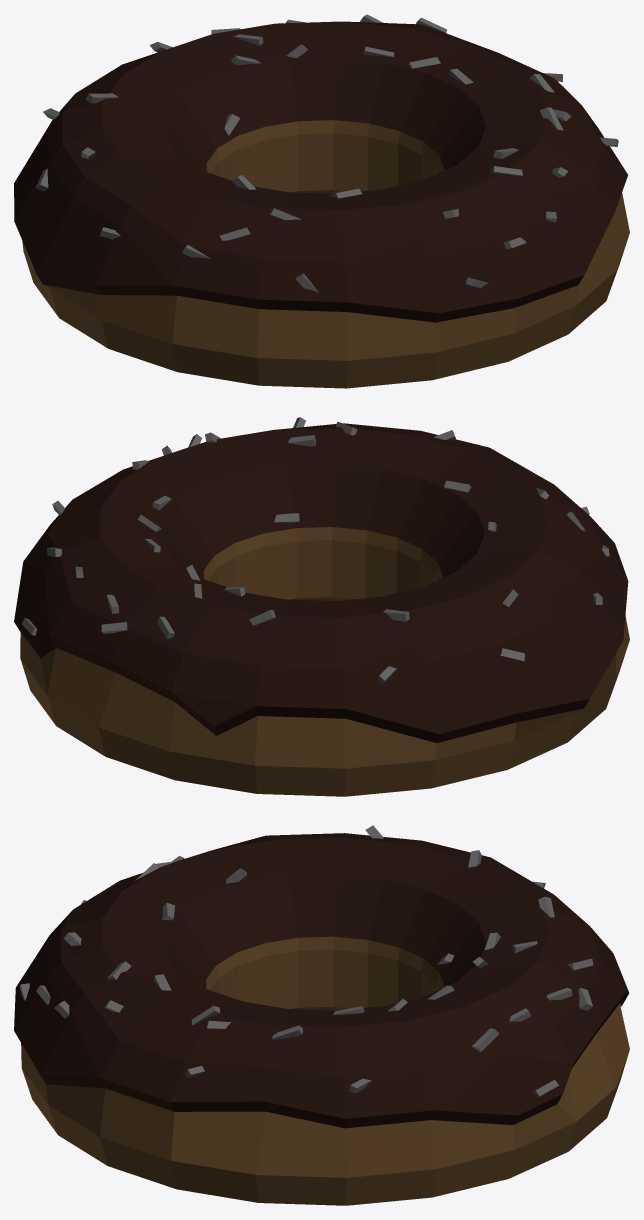
File: Donut4.obj
The picture shows the model from 3 angles, top to bottom: view 1: azimuth 30°, elevation 25°; view 2: azimuth 150°, elevation 25°; view 3: azimuth 270°, elevation 25°; orthographic projection.
Visible parts, largest first — view 1: Donut4_Torus.001; view 2: Donut4_Torus.001; view 3: Donut4_Torus.001.
Boxes of the visible parts, bbox=[...] form: Donut4_Torus.001: bbox=[14, 14, 629, 388]; Donut4_Torus.001: bbox=[14, 417, 629, 796]; Donut4_Torus.001: bbox=[14, 825, 629, 1205].
Size of the model in its own units: 0.8811 by 0.2889 by 0.8675.
